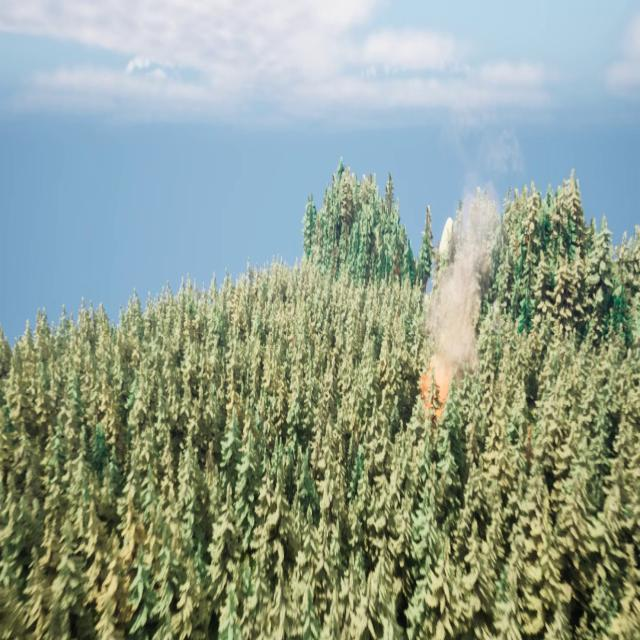smoke: (419, 119, 528, 412)
